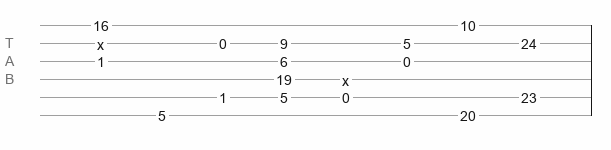0: (219, 36, 227, 46), (342, 90, 350, 100), (403, 54, 411, 64)
1: (97, 54, 105, 64), (219, 90, 227, 100)
10: (460, 18, 476, 28)
16: (93, 18, 109, 28)
19: (276, 72, 292, 82)
20: (460, 108, 476, 118)
23: (521, 90, 537, 100)
24: (521, 36, 537, 46)
5: (158, 108, 166, 118), (280, 90, 288, 100), (403, 36, 411, 46)
6: (280, 54, 288, 64)
9: (280, 36, 288, 46)
x: (97, 37, 104, 45), (342, 73, 349, 81)
